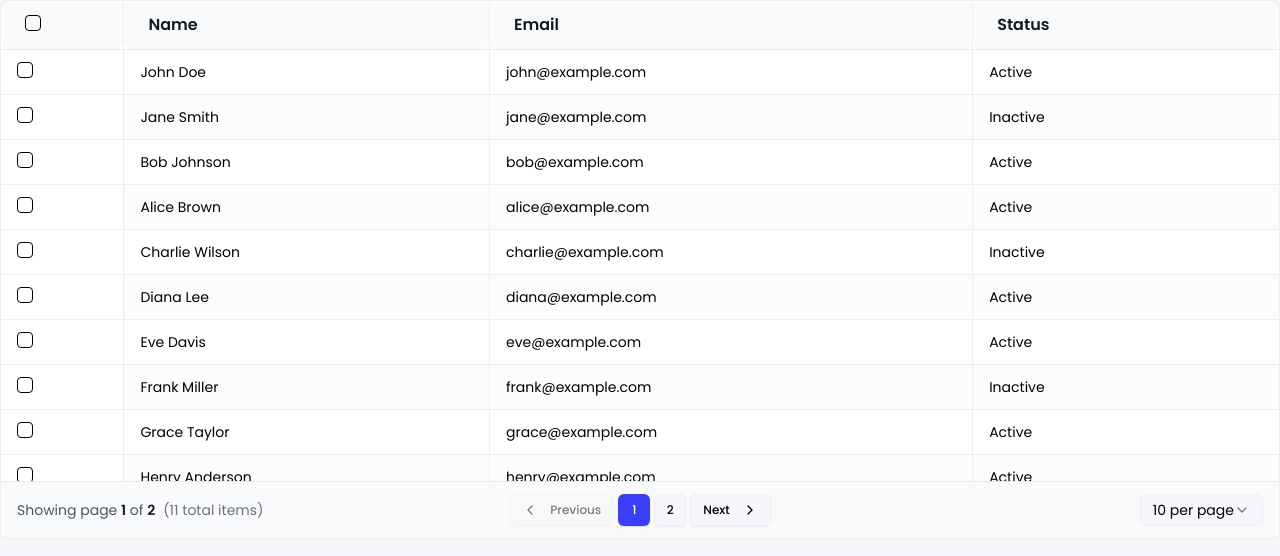
it: SmartTable › displays selected rows count
# Select first row
Click the checkbox named "Select row" next to "John Doe".
click(25, 70)  # box [17,62,33,78]
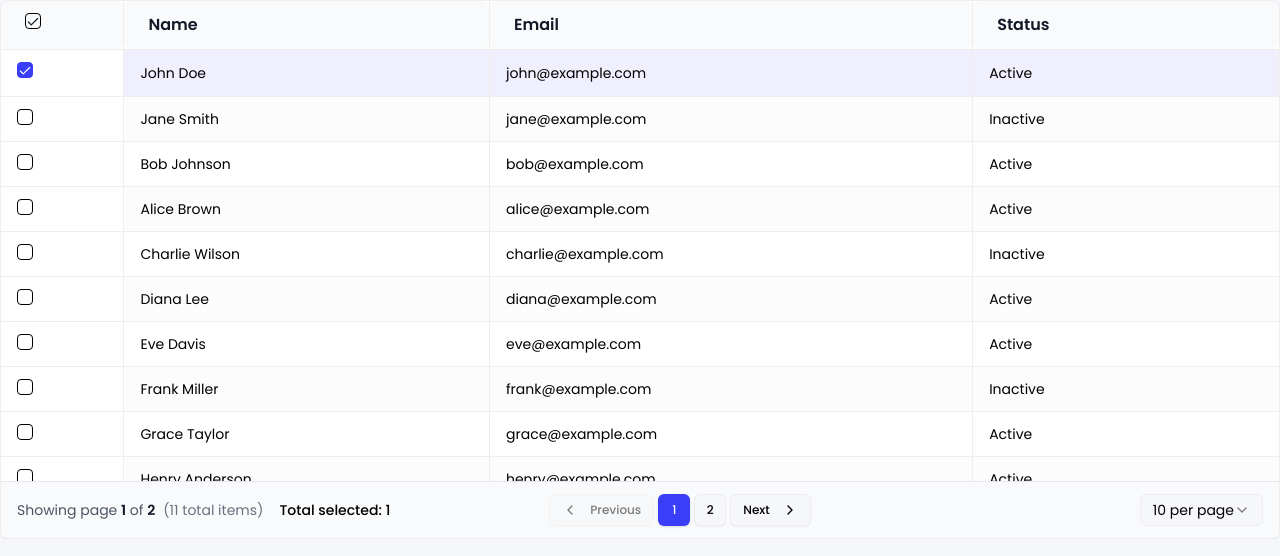
Expected: the text "Total selected: 1" is shown, [279,500,390,520]
